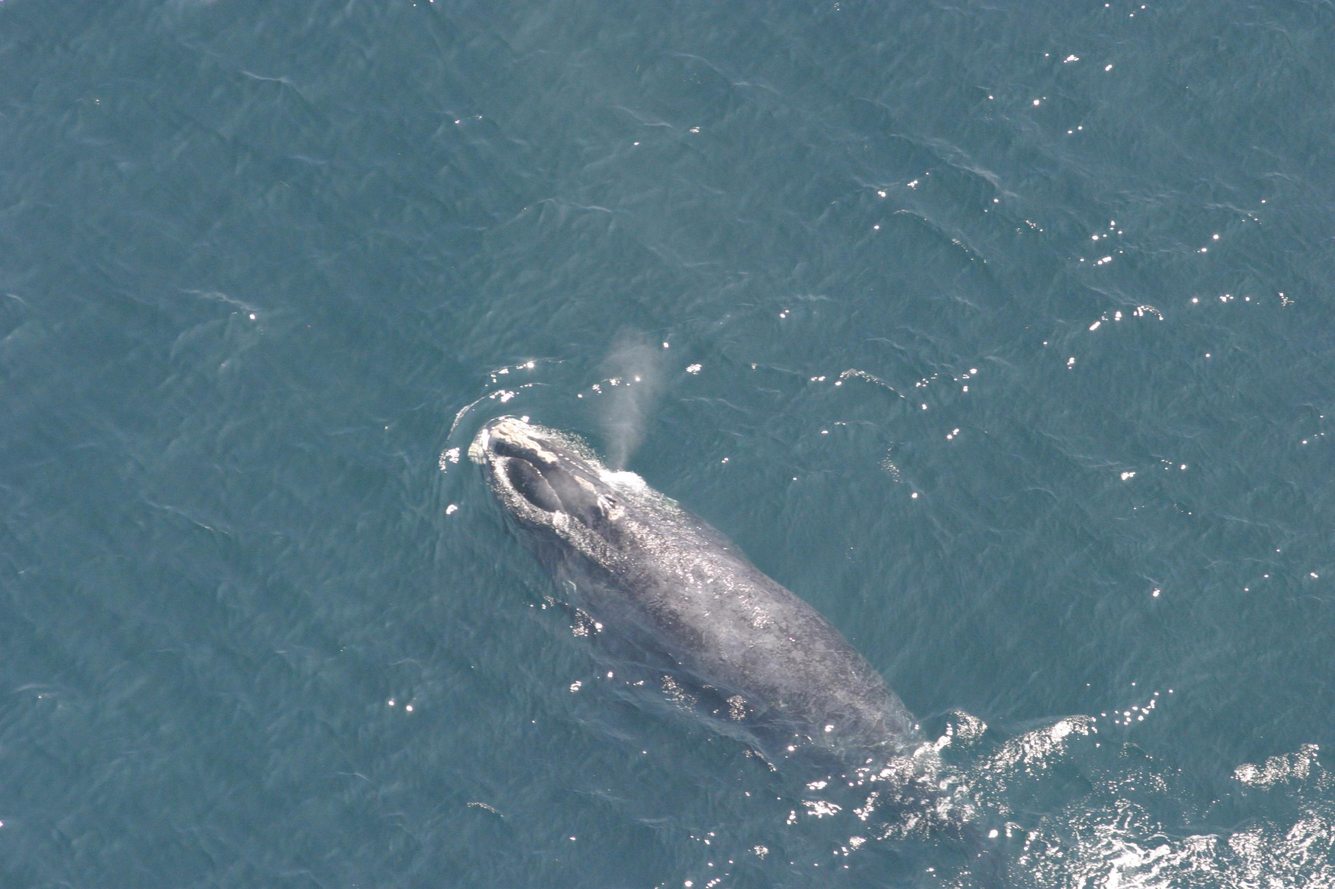whale: (462, 406, 996, 868)
